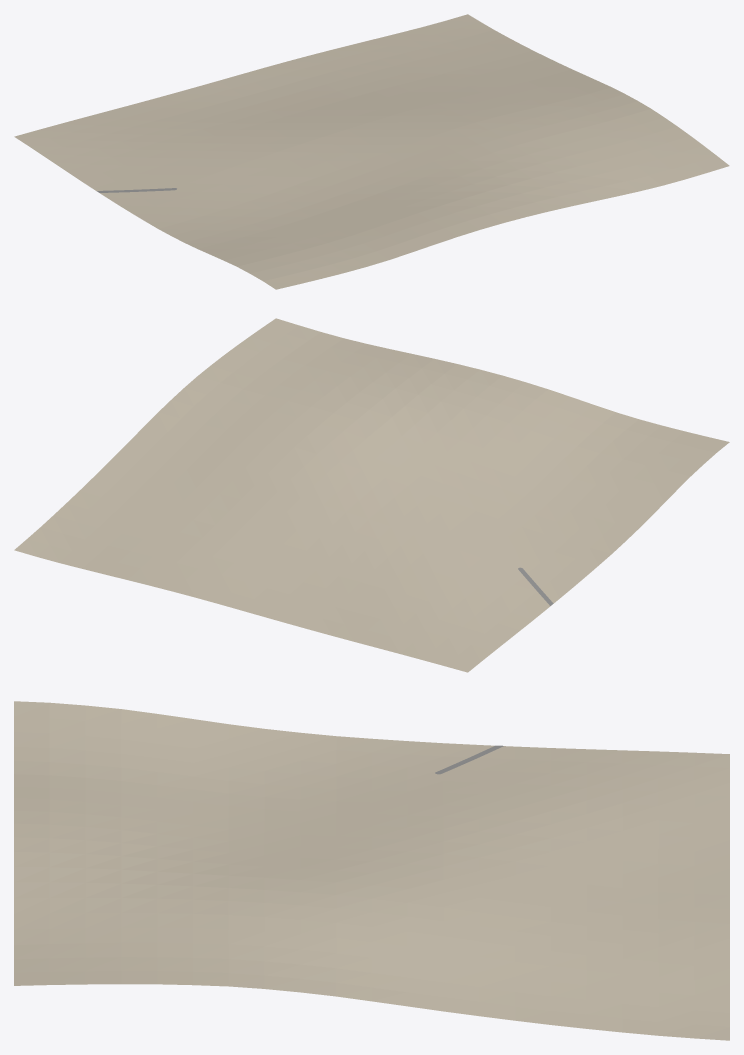
Rendered from bolak_9_-9.glb.
The picture shows the model from 3 angles, top to bottom: view 1: azimuth 30°, elevation 25°; view 2: azimuth 150°, elevation 25°; view 3: azimuth 270°, elevation 25°; orthographic projection. The views are drawn at different scales.
Visible parts, largest first — view 1: Yer_Tuproq-col; view 2: Yer_Tuproq-col; view 3: Yer_Tuproq-col.
Part boxes in pixels (x1=…): Yer_Tuproq-col: x1=14, y1=14, x2=729, y2=289; Yer_Tuproq-col: x1=14, y1=318, x2=729, y2=672; Yer_Tuproq-col: x1=14, y1=701, x2=729, y2=1040.
Size of what is drawn, in the model's own units: 400 by 44.72 by 400.
